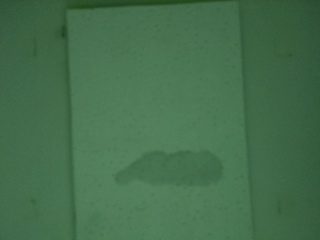Water_detected: (137, 152, 213, 191)
